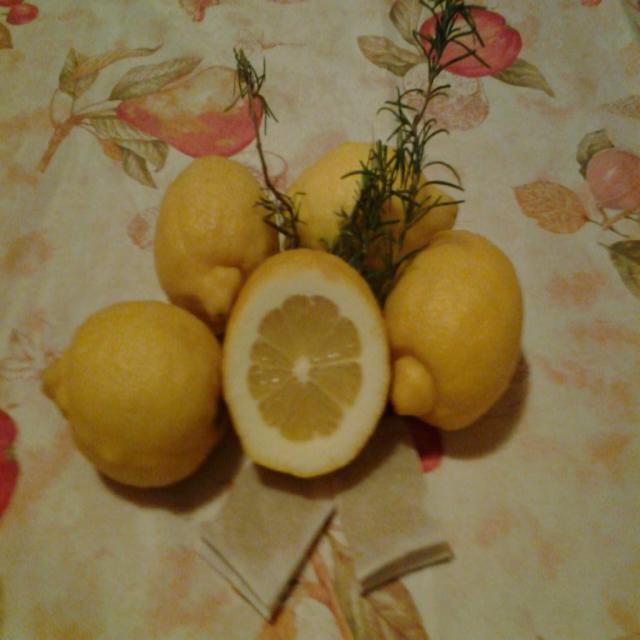Lemon: (220, 245, 394, 478), (39, 299, 224, 490), (382, 227, 524, 431), (277, 141, 460, 282), (154, 155, 282, 335)
